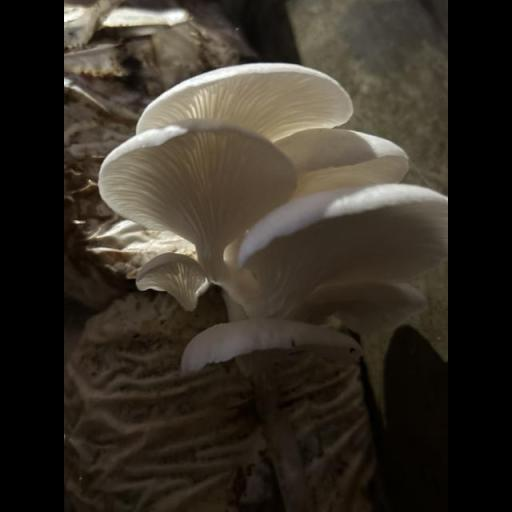White Oyster Mushroom: (99, 63, 444, 371)
